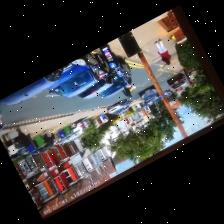person: (154, 38, 170, 64), (1, 133, 17, 156), (15, 127, 30, 146), (122, 87, 131, 97), (101, 113, 107, 121)
